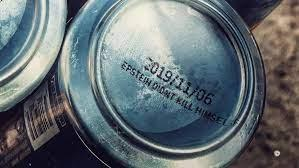metal: (0, 0, 269, 168)
